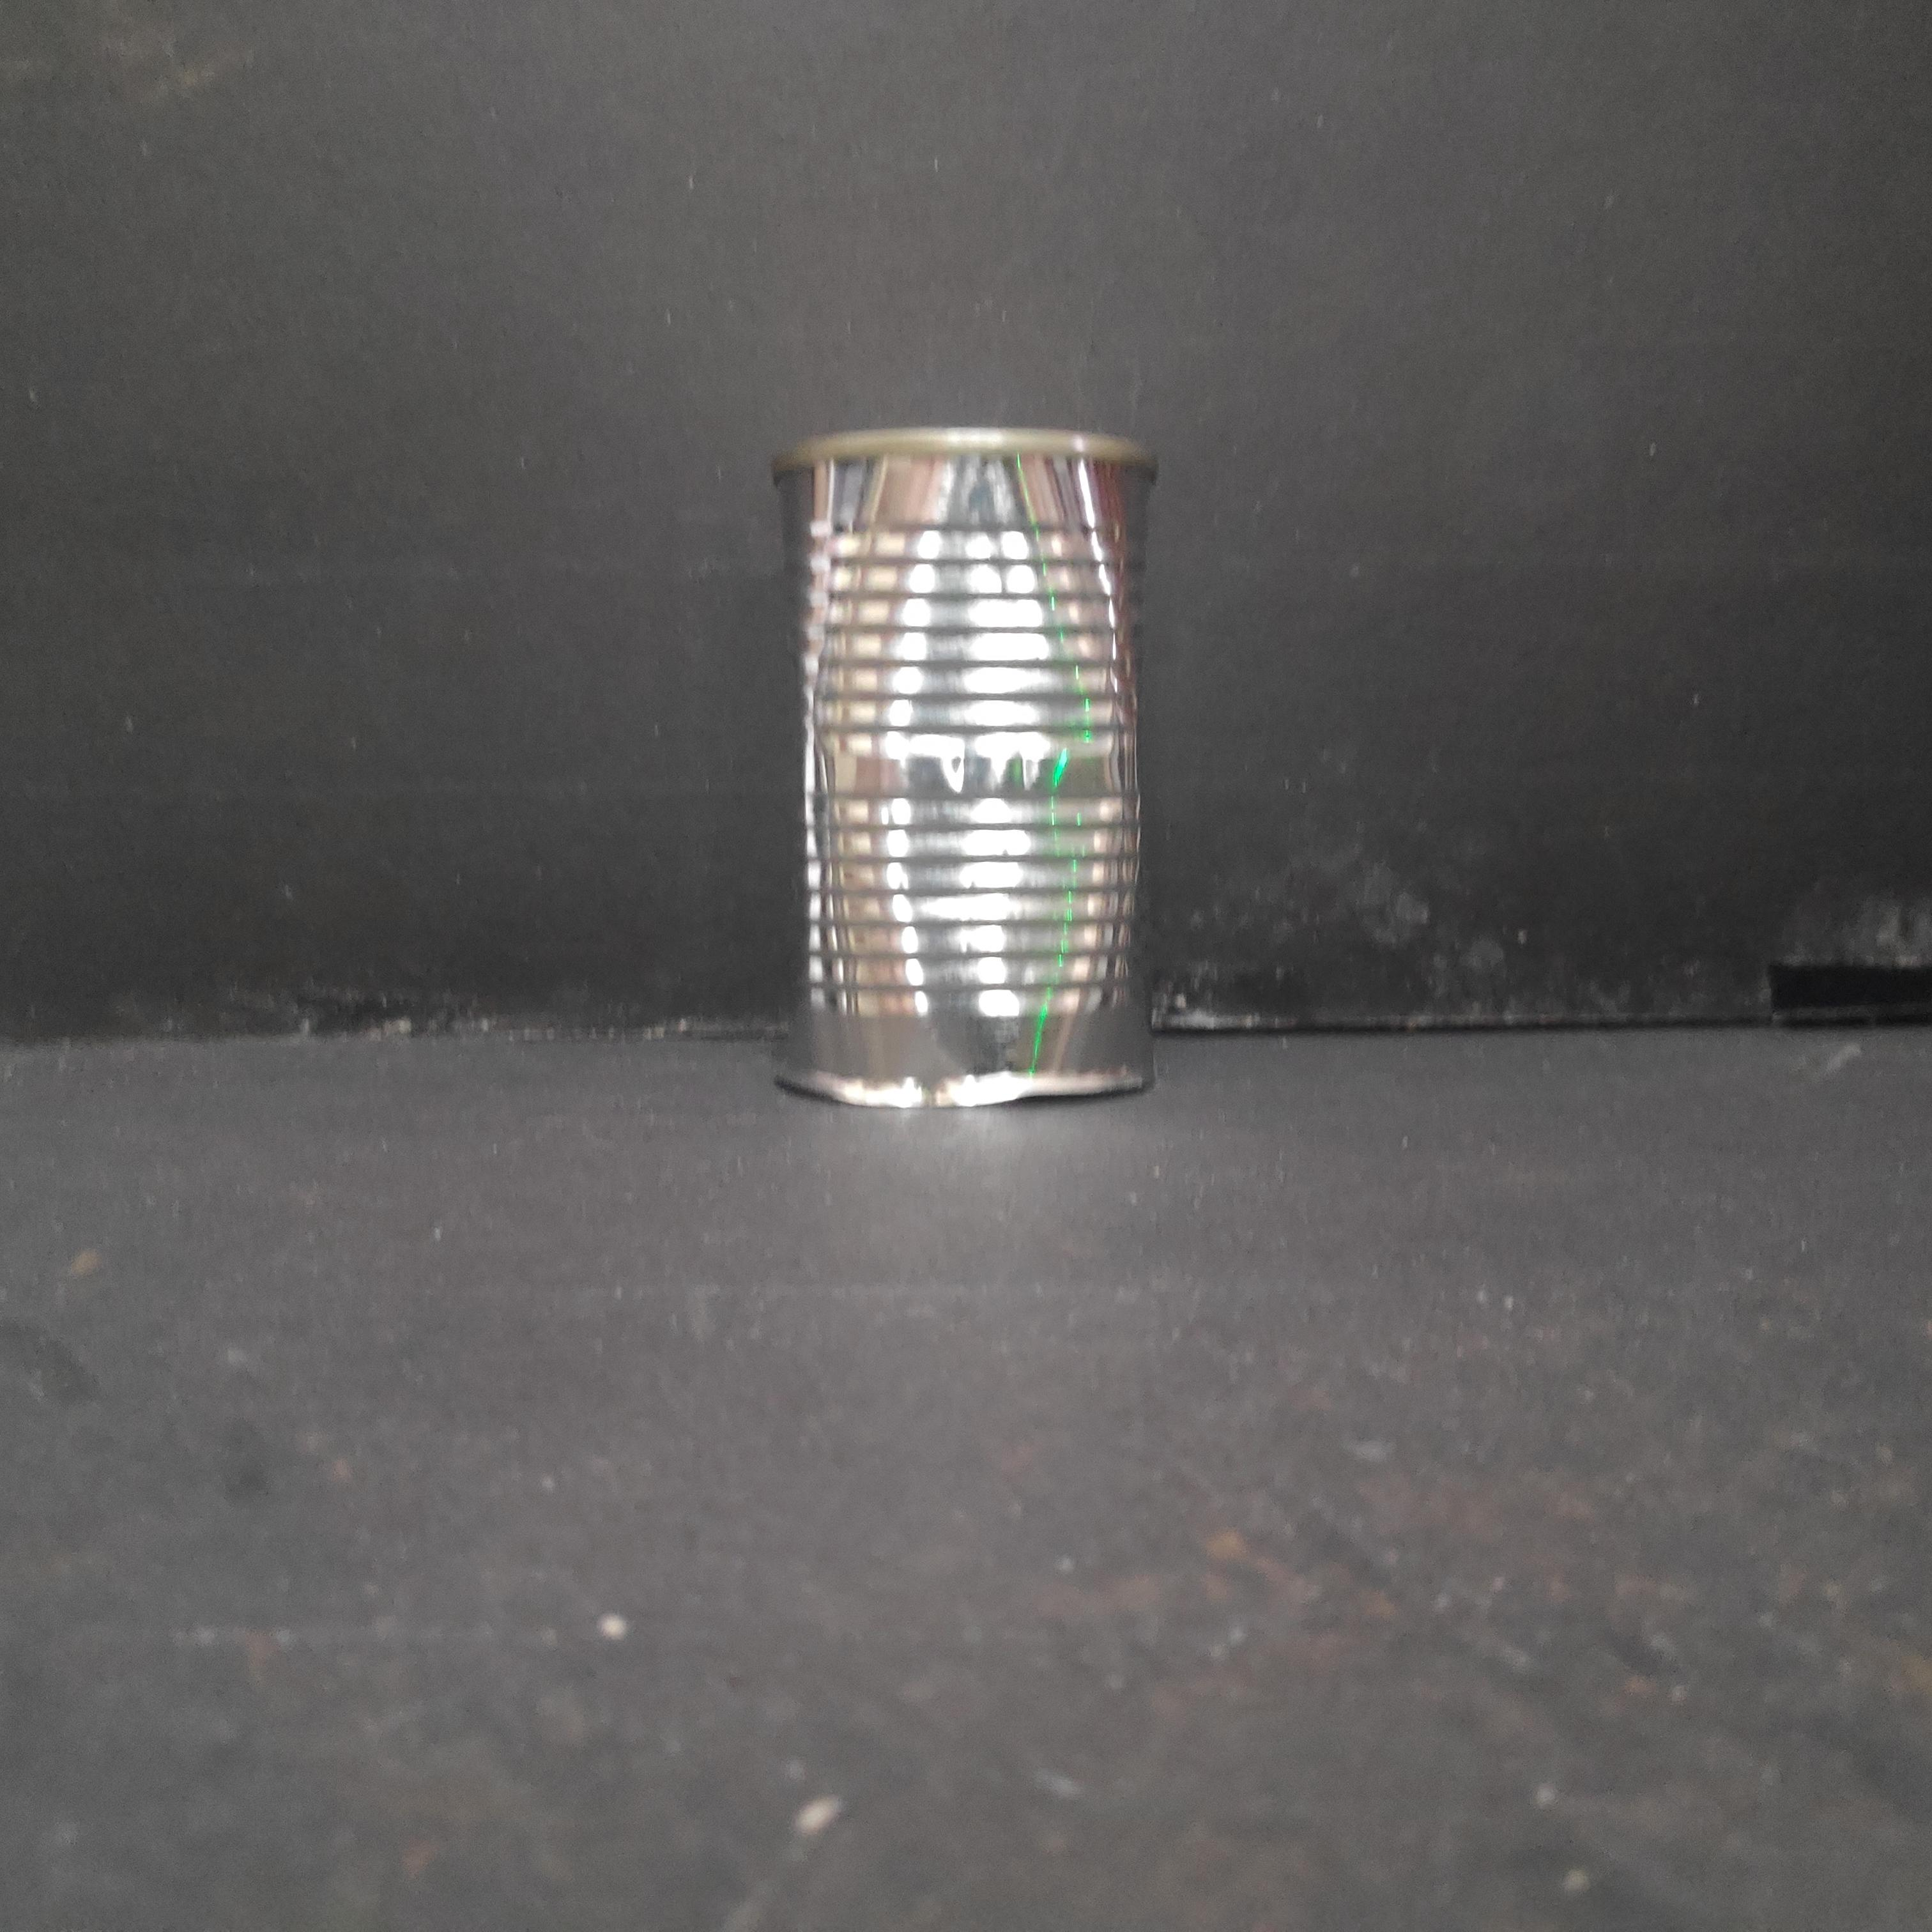Minor Defect: (771, 416, 1159, 1116)
